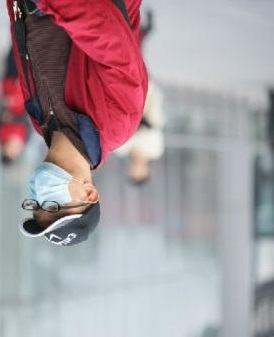person: (6, 1, 145, 250), (118, 78, 169, 189), (1, 50, 35, 166)
